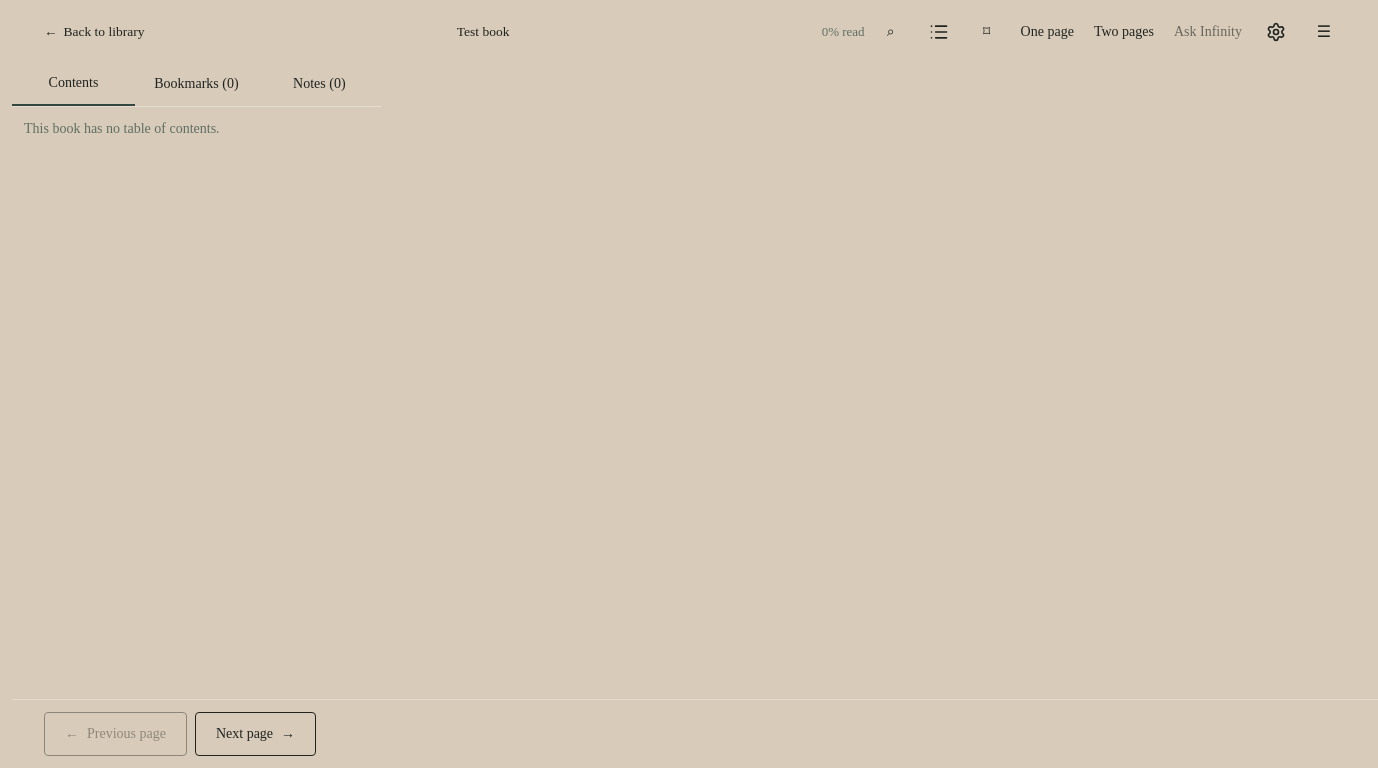
lost access › tears down reader content when a progress request reports signed-out
The image size is (1378, 768).
Click the button "Next page →".
click(256, 734)  # box top-left (195, 712), bottom-right (316, 756)
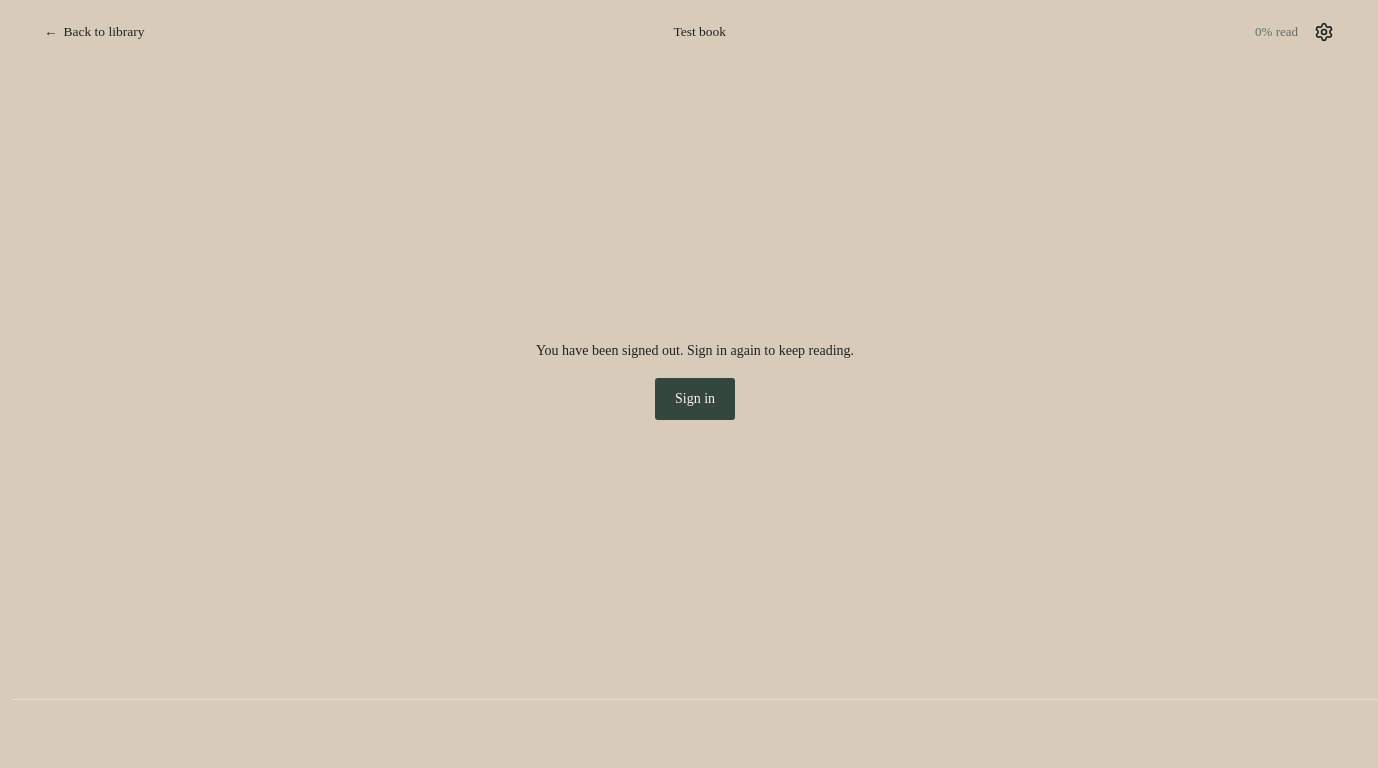
Result: the text "You have been signed out. Sign in again to keep reading." is shown at top-left (536, 340), bottom-right (854, 360)
